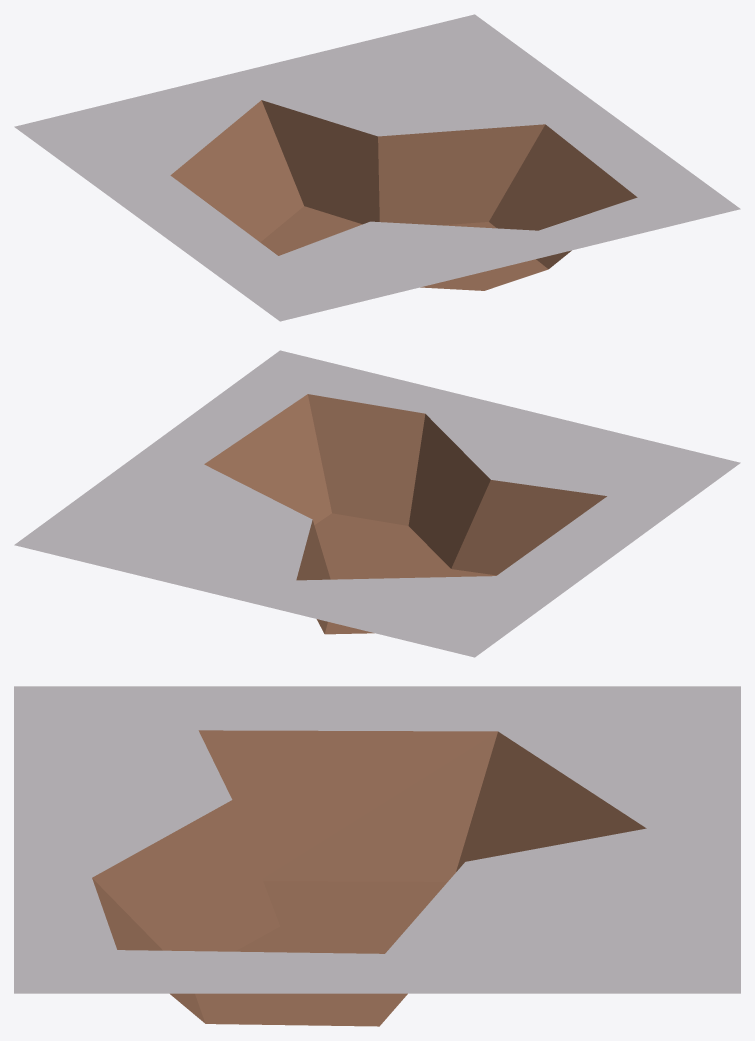
File: floor-hole.glb
3 renders of one model, top to bottom at view 1: azimuth 30°, elevation 25°; view 2: azimuth 150°, elevation 25°; view 3: azimuth 270°, elevation 25°, orthographic. The views are drawn at different scales.
Visible parts, largest first — view 1: FloorHole; view 2: FloorHole; view 3: FloorHole.
Part boxes in pixels (bbox=[...]): FloorHole: bbox=[14, 14, 740, 321]; FloorHole: bbox=[14, 350, 740, 657]; FloorHole: bbox=[14, 686, 740, 1026].
Size of the model in its own units: 1.2 by 0.2035 by 1.2.
Materials: 1 (1 with a texture image).
